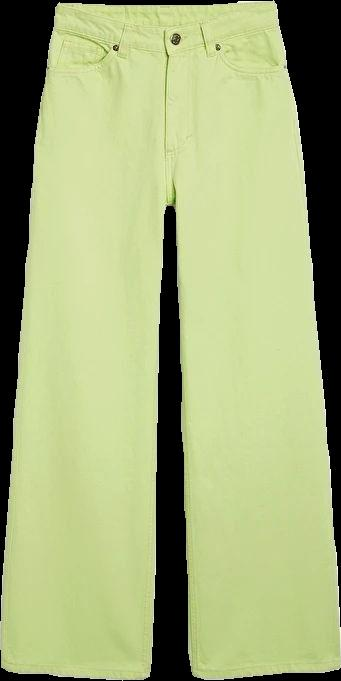Hemline: (1, 661, 153, 680), (191, 664, 340, 680)
Pantleg: (161, 2, 340, 678), (0, 3, 166, 678)
Waistline: (51, 16, 280, 53), (55, 0, 276, 28)
